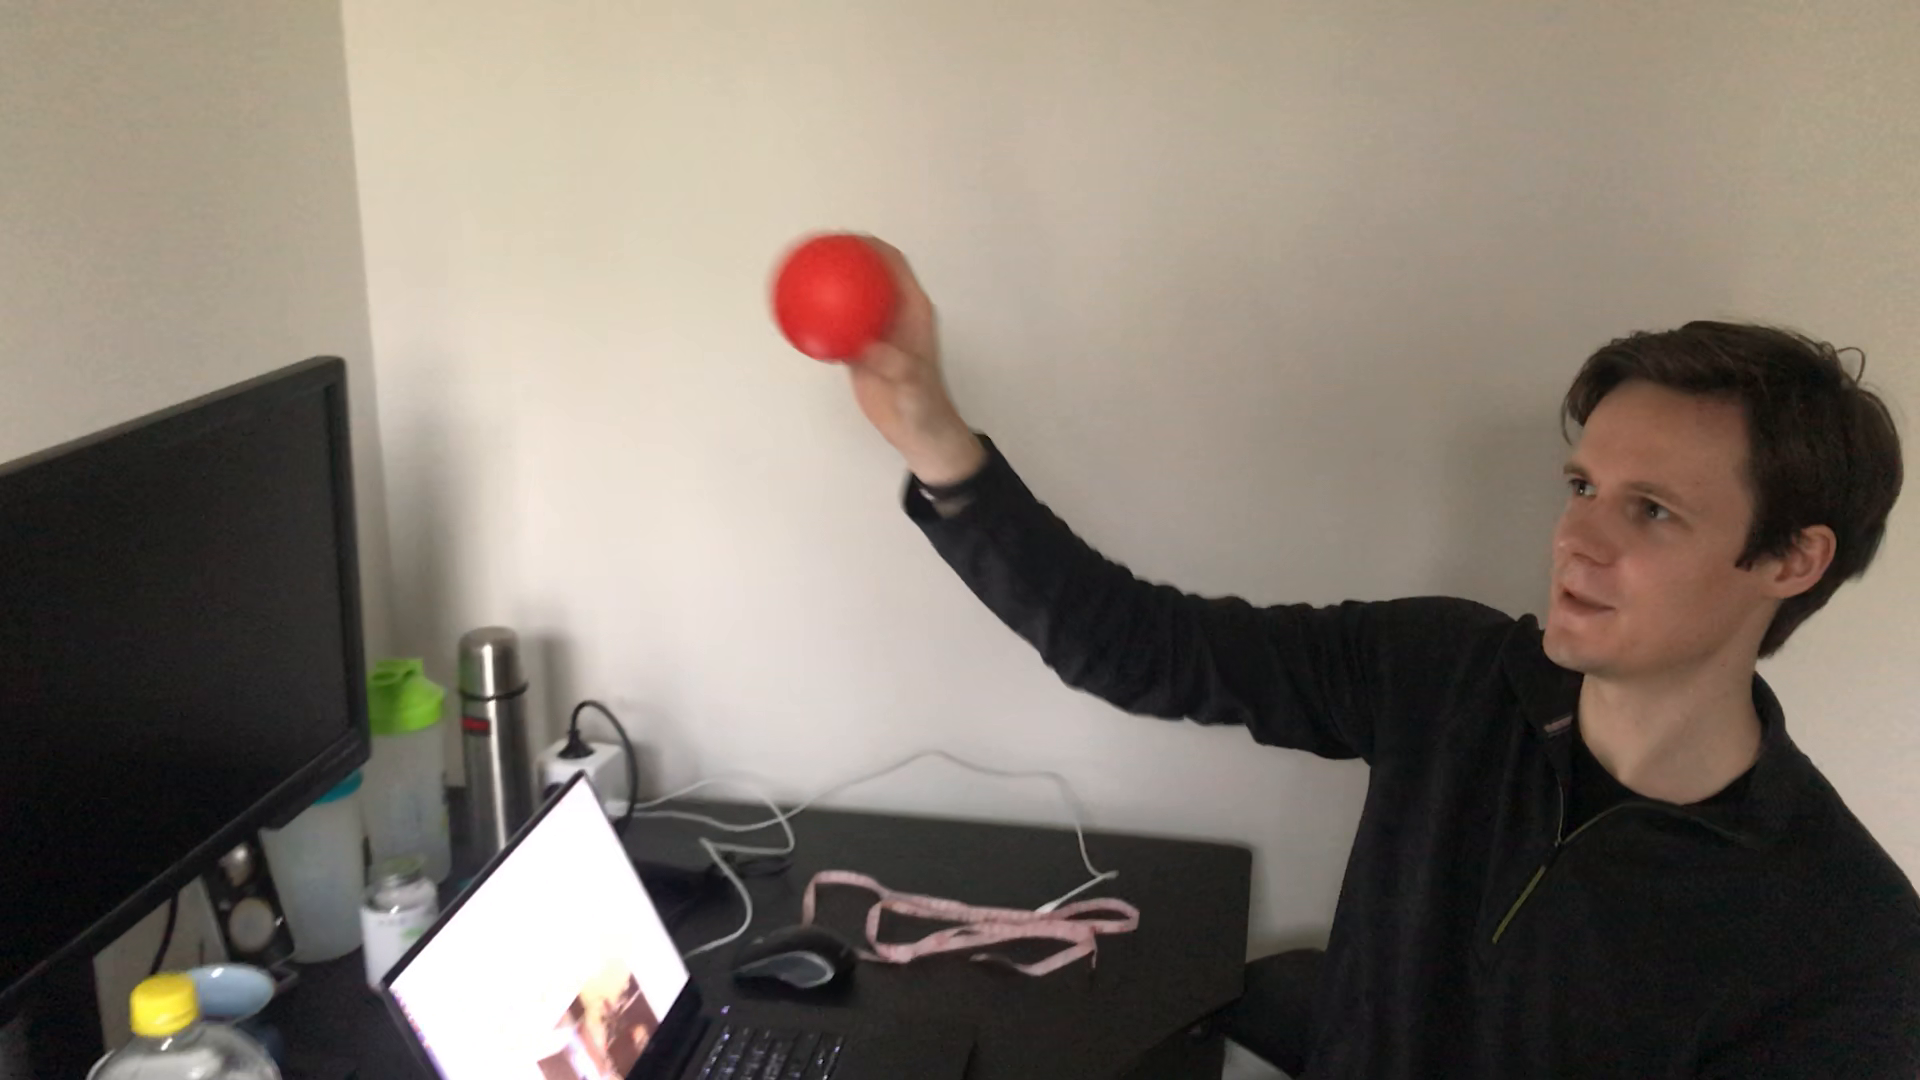Ball: (777, 235, 905, 367)
